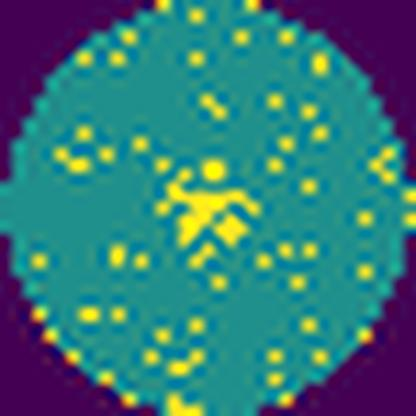Center: (149, 162, 267, 253)
